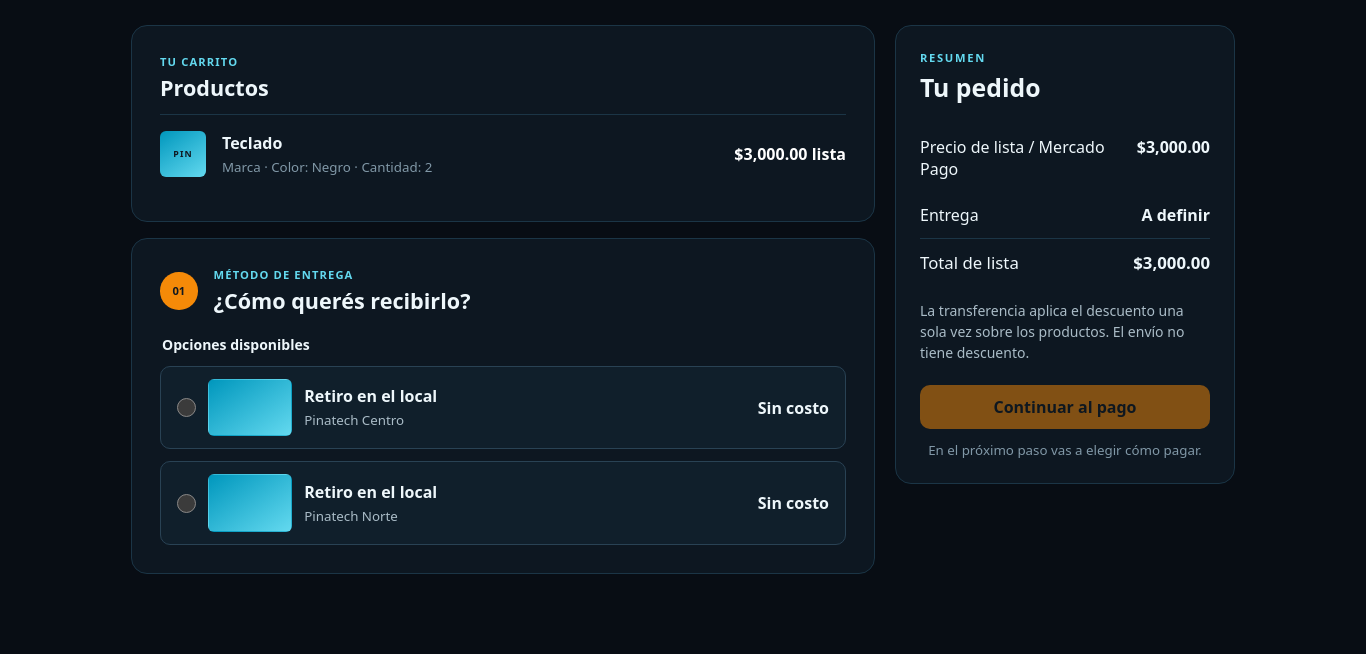
Test: CheckoutComponent › renders and selects each configured pickup location as its own option
(page scrolled)
Expected: the number of elements with class "delivery-card--pickup" is 2, left=160, top=366, right=846, bottom=449; left=160, top=461, right=846, bottom=545
Expected: the text "Av. Rafael Núñez 456" is not shown
Step 1. Click the radio button labelled "Retiro en el local Pinatech Norte Sin costo" → (187, 503), box left=177, top=494, right=196, bottom=513
(page scrolled)
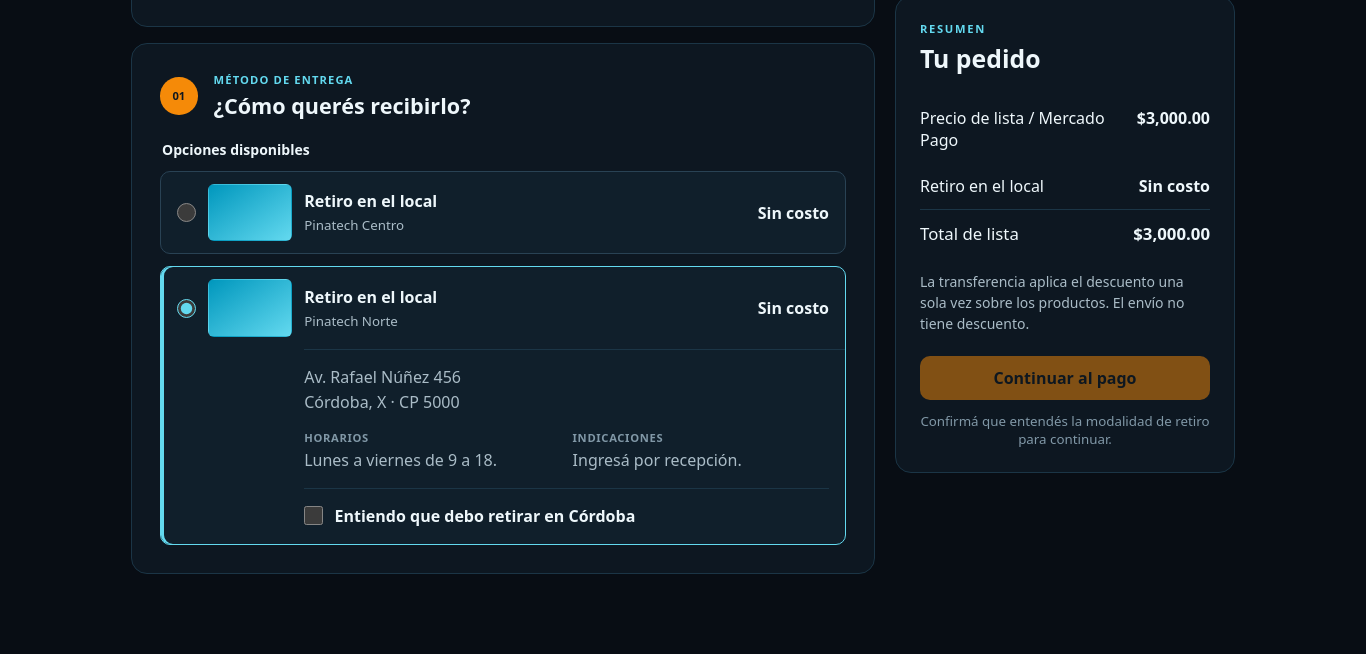
Expected: the element with class "delivery-card--pickup" shows "Pinatech Norte", left=304, top=312, right=398, bottom=330
Expected: the text "Av. Rafael Núñez 456" is shown, left=304, top=366, right=461, bottom=388
